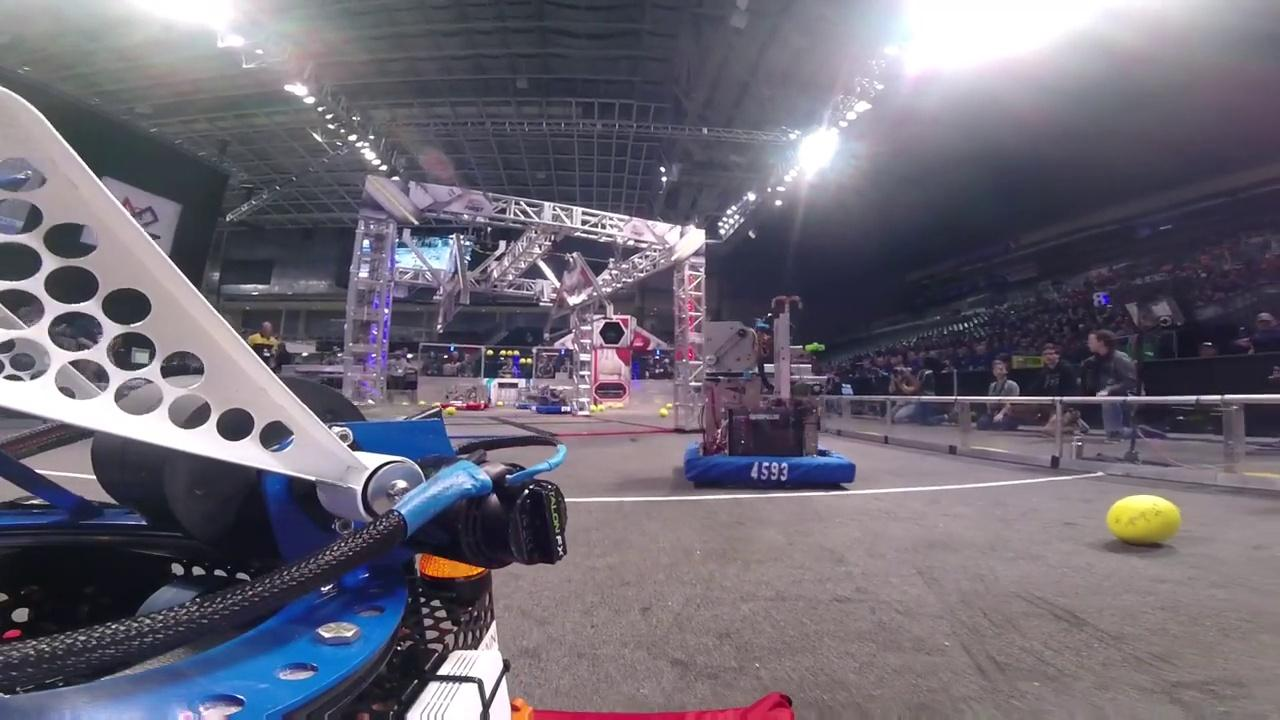robot: (677, 289, 860, 489), (515, 380, 578, 417), (438, 380, 491, 412)
